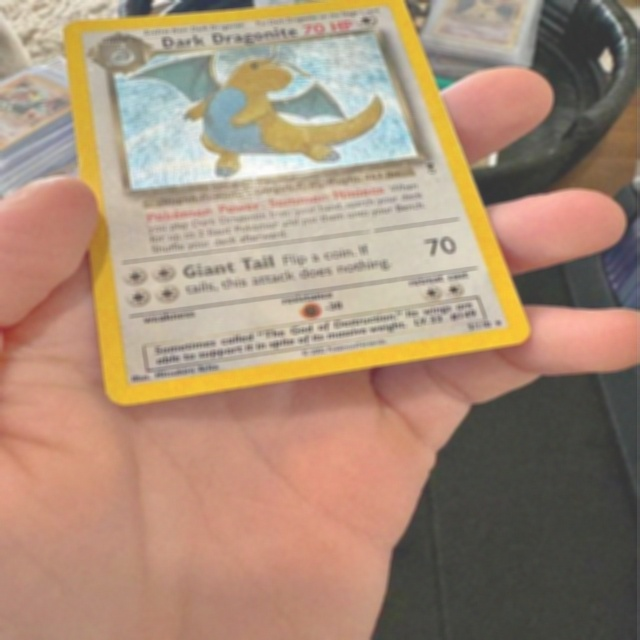card: (62, 0, 532, 408)
